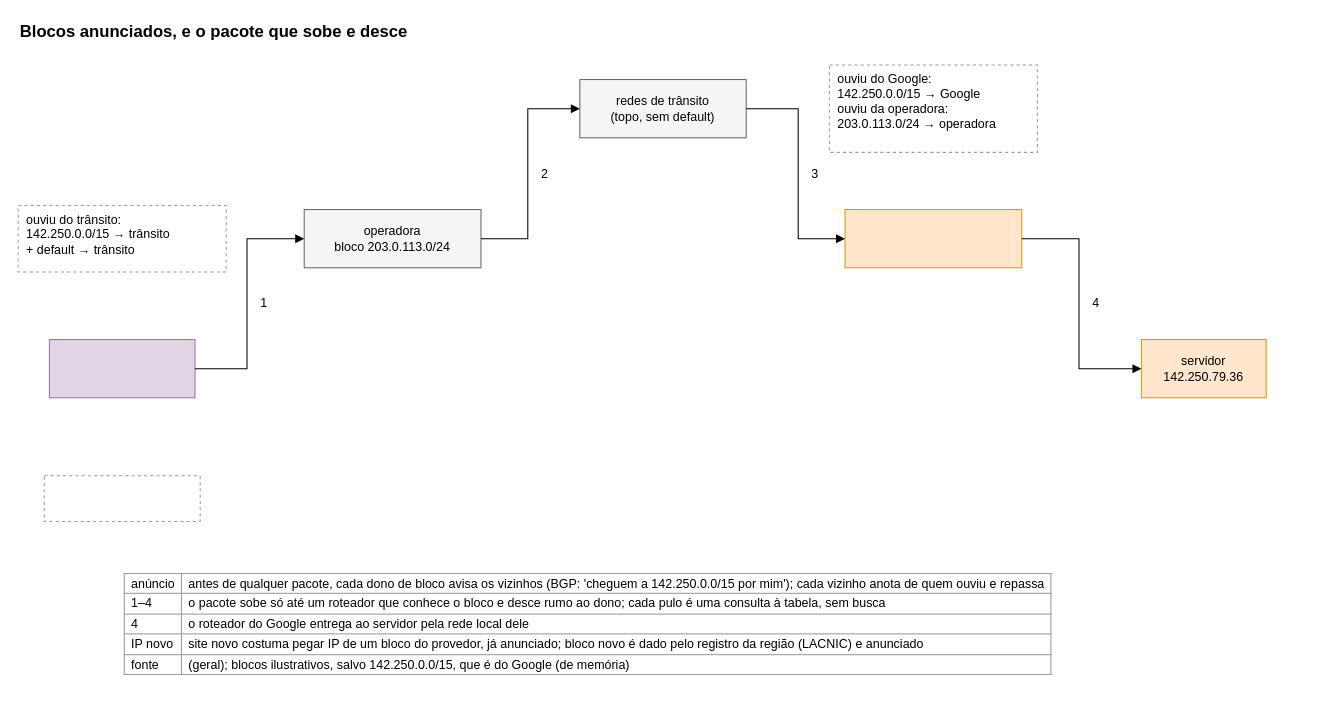
The diagram is 1323 pixels wide and 704 high, and some of its shapes have lost their labels. The centre of each missing label's shape, as x and y in pixels:
"não ouve anúncio: default → operadora" goes at (x=121, y=498).
"rede do Google bloco 142.250.0.0/15" goes at (x=933, y=238).
"roteador de casa 203.0.113.7" goes at (x=121, y=368).
